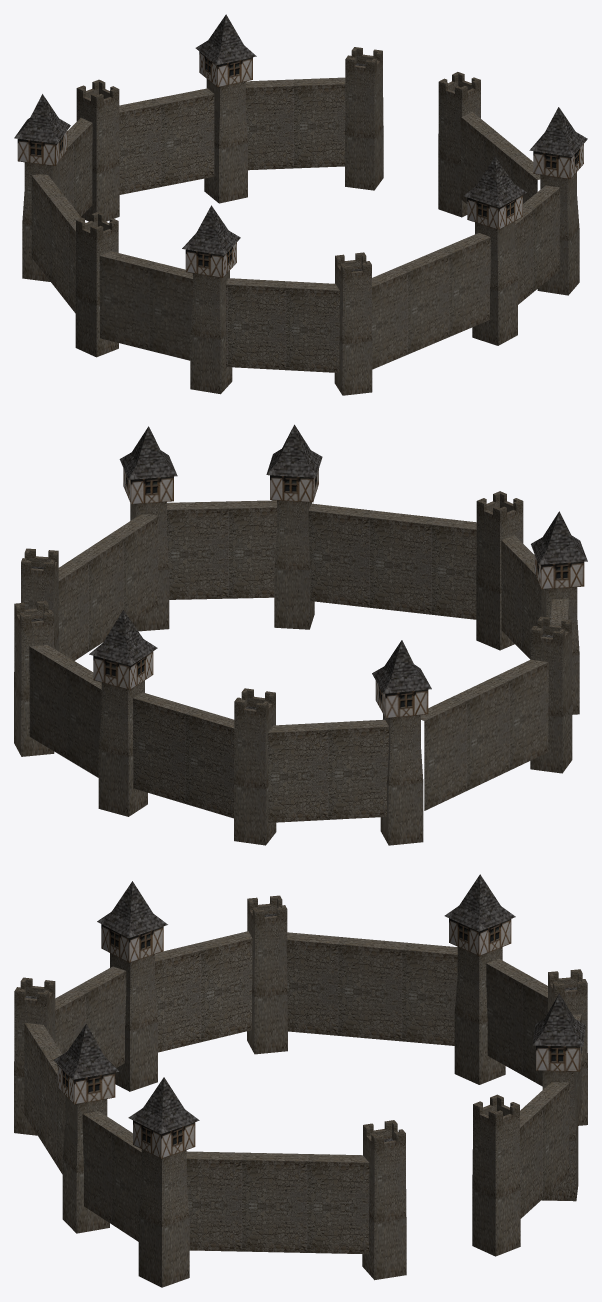
The model's file is CityWallSmall.glb.
3 views of the same model, one above another, from view 1: azimuth 30°, elevation 25°; view 2: azimuth 150°, elevation 25°; view 3: azimuth 270°, elevation 25° (orthographic). The views are drawn at different scales.
Visible parts, largest first — view 1: CityWallSmall; view 2: CityWallSmall; view 3: CityWallSmall.
Part boxes in pixels (box(x1,y1,x2,y2)): CityWallSmall: box(14, 14, 587, 395); CityWallSmall: box(14, 424, 587, 845); CityWallSmall: box(14, 874, 587, 1287).
Size of the model in its own units: 4 by 1.5 by 3.9.
1 material, 1 textured.
